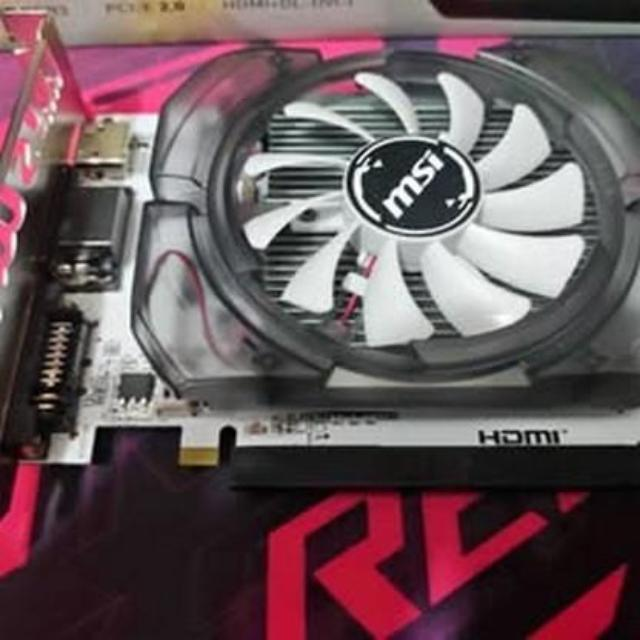GPU: (0, 33, 640, 442)
